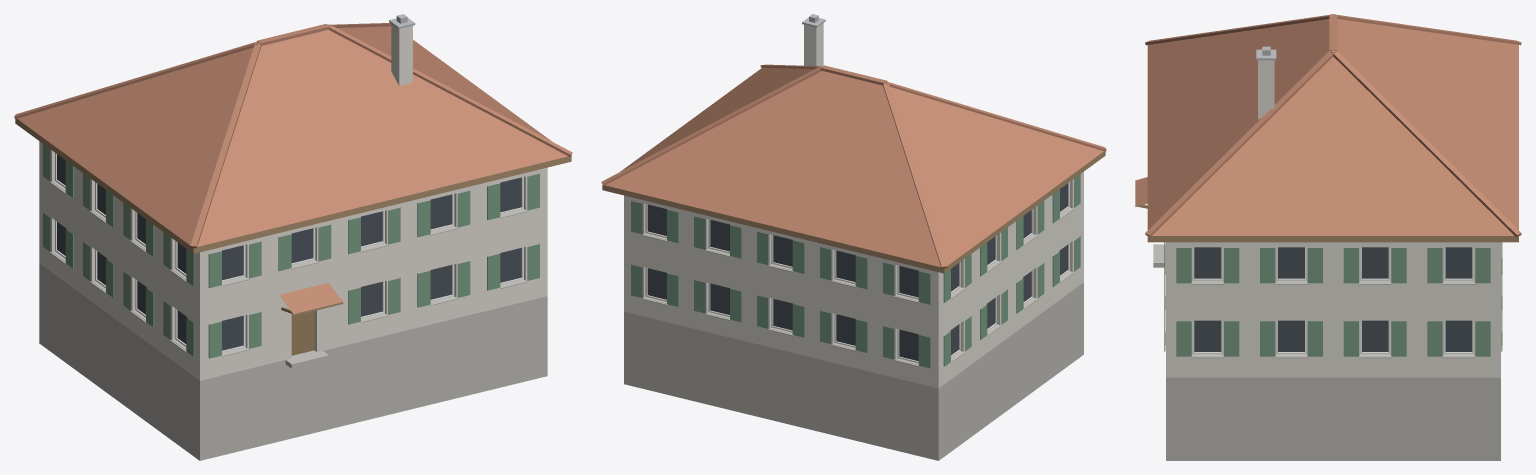
File: house_hipped_2_l.glb
3 renders of one model, left to right at view 1: azimuth 30°, elevation 25°; view 2: azimuth 150°, elevation 25°; view 3: azimuth 270°, elevation 25°, orthographic. The views are drawn at different scales.
Parts seen in each view (by area): view 1: house_hipped_2_l; view 2: house_hipped_2_l; view 3: house_hipped_2_l.
Boxes of the visible parts, x1=… form: house_hipped_2_l: x1=14, y1=14, x2=572, y2=460; house_hipped_2_l: x1=601, y1=14, x2=1106, y2=460; house_hipped_2_l: x1=1135, y1=14, x2=1521, y2=460.
Size of the model in its own units: 16.5 by 14.35 by 13.85.
